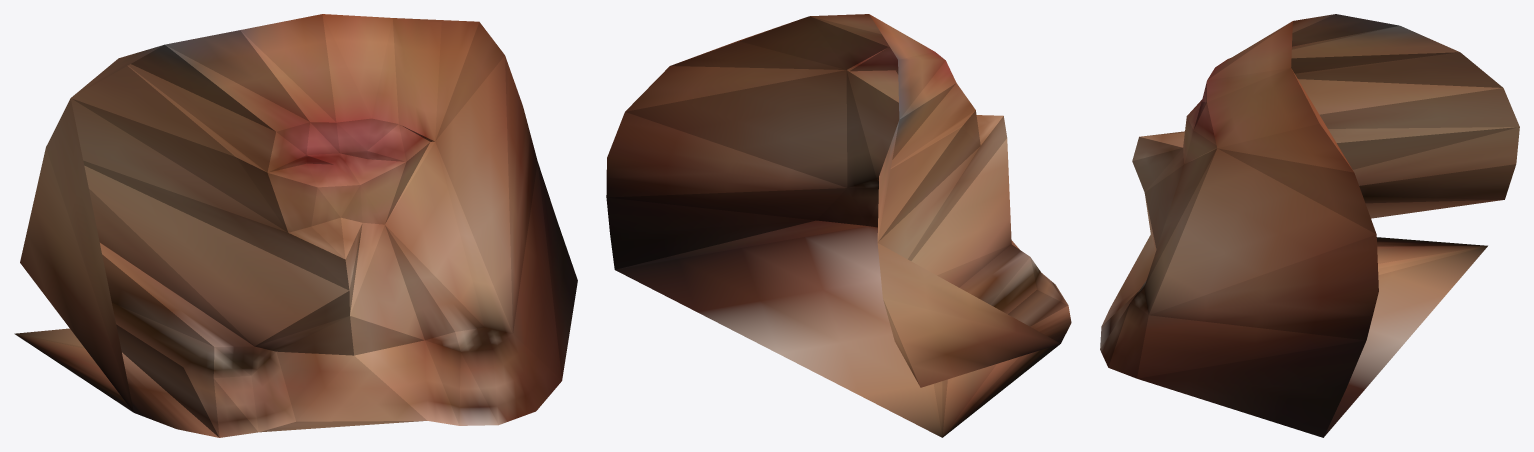
Rendered from fake_38289.obj.
3 views of the same model, side by side, from view 1: azimuth 30°, elevation 25°; view 2: azimuth 150°, elevation 25°; view 3: azimuth 270°, elevation 25° (orthographic). The views are drawn at different scales.
Size of the model in its own units: 124 by 88 by 109.
